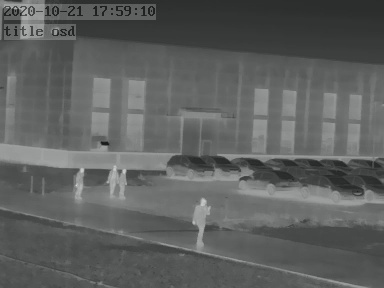person: (192, 195, 211, 245), (71, 165, 85, 198), (108, 165, 120, 197), (120, 166, 132, 197)
vehicle: (303, 173, 359, 200), (240, 169, 303, 191), (166, 153, 213, 179), (206, 153, 242, 177), (349, 173, 382, 199), (233, 155, 269, 171), (262, 156, 297, 170), (348, 156, 381, 170), (318, 156, 348, 170), (295, 155, 324, 169)
